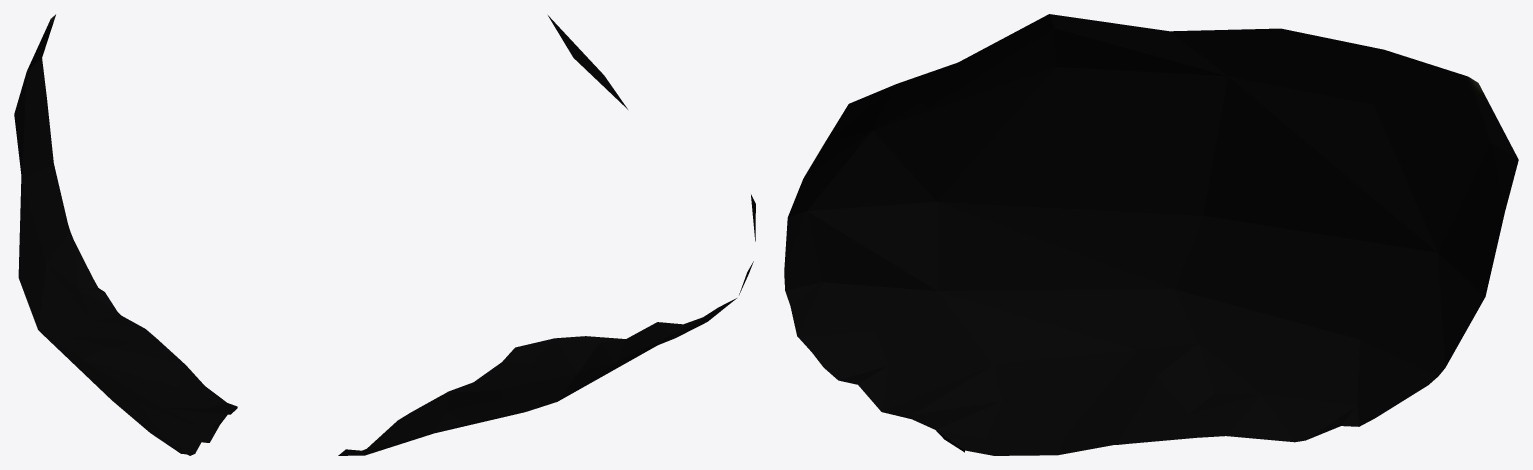
3 renders of one model, left to right at view 1: azimuth 30°, elevation 25°; view 2: azimuth 150°, elevation 25°; view 3: azimuth 270°, elevation 25°, orthographic. The views are drawn at different scales.
Bounding box in the file's own units: 0.5372 × 0.8919 × 1.59.
Materials: 1 (1 with a texture image).
